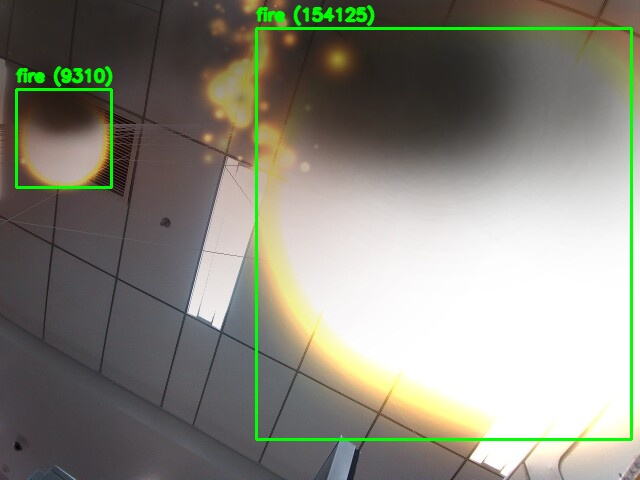fire: (256, 28, 631, 439), (16, 89, 111, 187)
